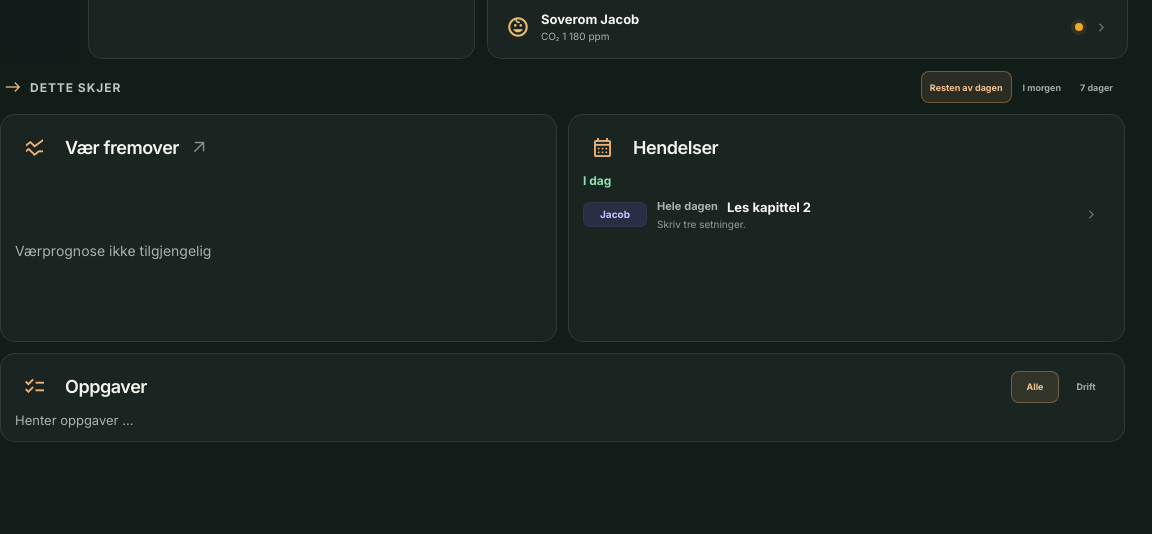
Test case: MainDashboardPrototype Nicolai agenda › shows Friday homework from Monday and removes it when Ferdig is pressed
The image size is (1152, 534).
(page scrolled)
Click the button "Jacob Hele dagen Les kapittel 2 Skriv tre setninger.": (615, 214) [583,195,1110,233]
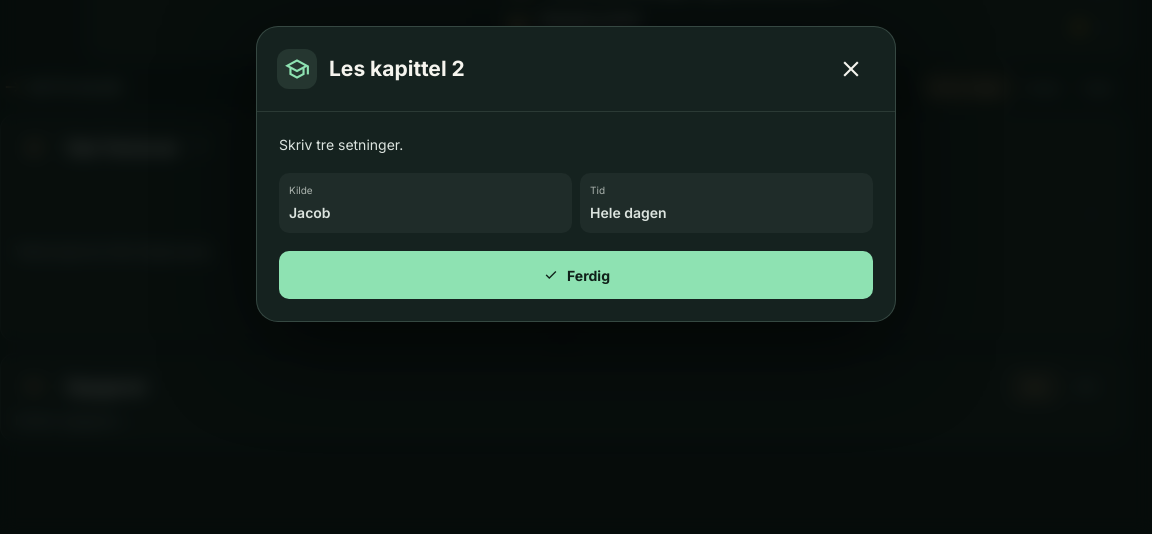
Expected: the button "Ferdig" is shown
Click the button "Ferdig": (576, 275) [279,251,873,299]
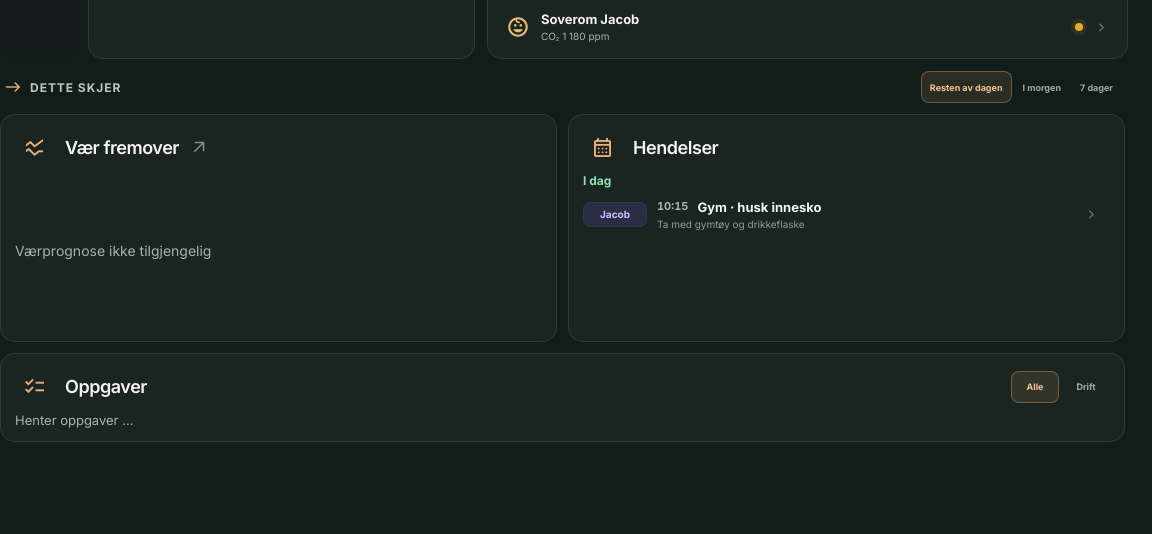
Expected: the button "Les kapittel 2" is gone
